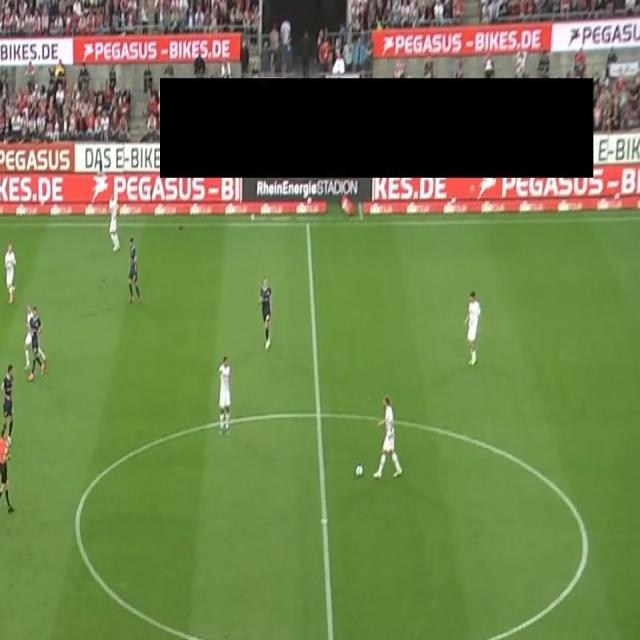ball: (354, 464, 364, 478)
